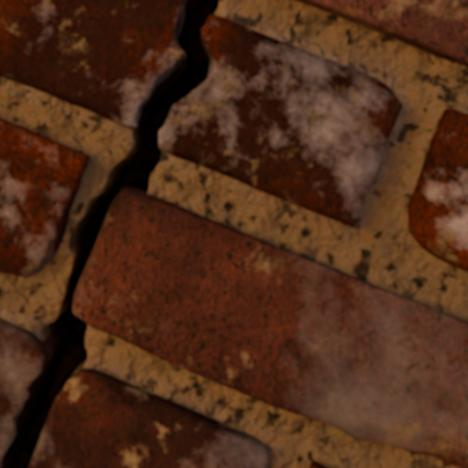brick: (74, 192, 467, 467), (0, 119, 89, 277), (296, 0, 467, 66), (410, 110, 467, 271), (311, 462, 325, 467)
broken_brick: (160, 15, 403, 227), (32, 368, 272, 467), (0, 0, 183, 129), (0, 318, 45, 467)
crack: (1, 0, 222, 467)
